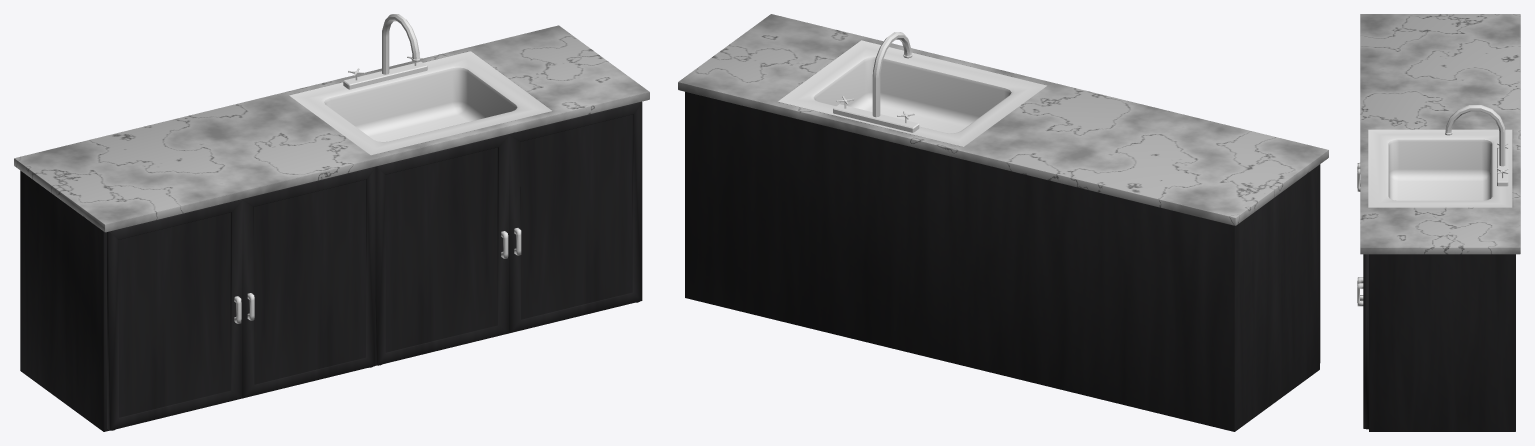
Rendered from sink.fbx.
3 renders of one model, left to right at view 1: azimuth 30°, elevation 25°; view 2: azimuth 150°, elevation 25°; view 3: azimuth 270°, elevation 25°, orthographic. The views are drawn at different scales.
Parts seen in each view (by area): view 1: Sink, Door1, Door3, Door4, Door2; view 2: Sink; view 3: Sink, Door4.
Boxes of the visible parts, x1,y1,x2,y2 form: Sink: [14, 14, 649, 431]; Door1: [107, 199, 242, 430]; Door3: [375, 134, 509, 365]; Door4: [509, 101, 642, 332]; Door2: [242, 167, 375, 398]; Sink: [678, 14, 1328, 431]; Sink: [1360, 14, 1520, 431]; Door4: [1357, 254, 1368, 429].
Size of the model in its own units: 406 by 202 by 120.
